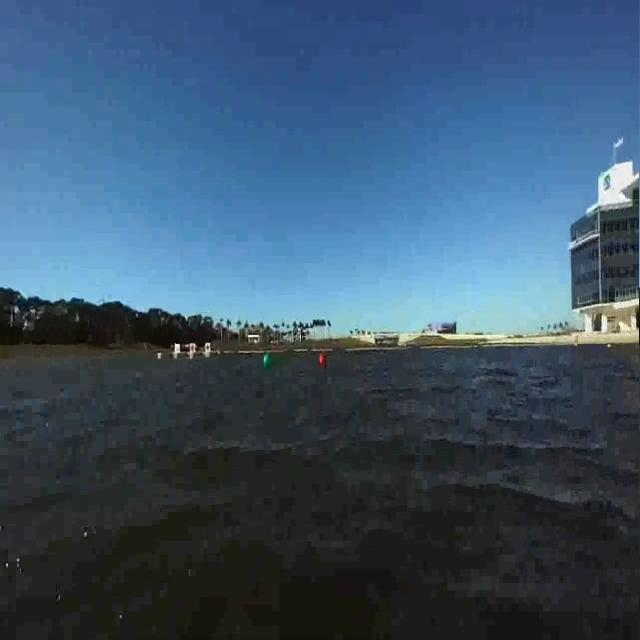green-buoy: (259, 352, 277, 374)
red-buoy: (319, 354, 326, 368)
yellow-buoy: (462, 594, 473, 613), (438, 580, 448, 597)
